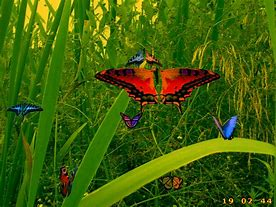insect: (92, 68, 214, 108), (210, 114, 236, 140), (127, 48, 161, 67), (55, 166, 75, 197), (6, 102, 44, 117), (119, 112, 140, 129), (156, 176, 183, 189)
